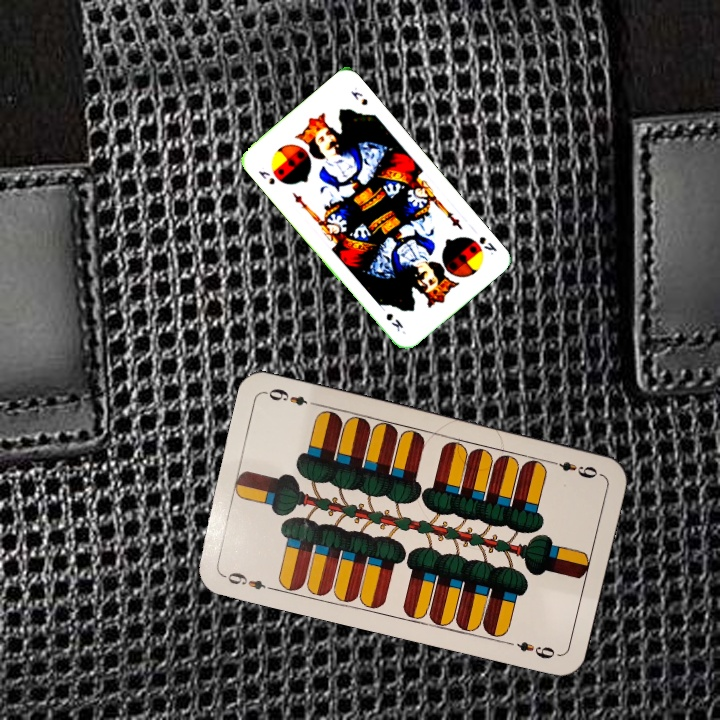E9: (544, 456, 603, 481), (219, 568, 277, 593)
SK: (475, 232, 500, 257), (254, 167, 278, 187)
